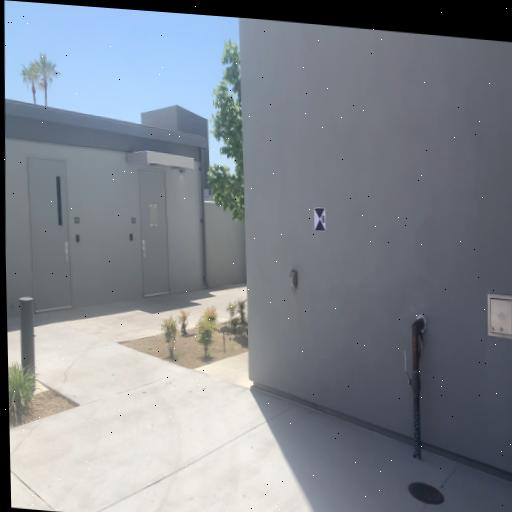target8: (313, 206, 327, 234)
